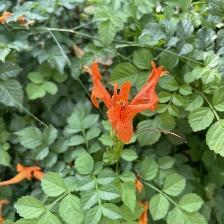honeysuckle: (107, 80, 152, 156)
